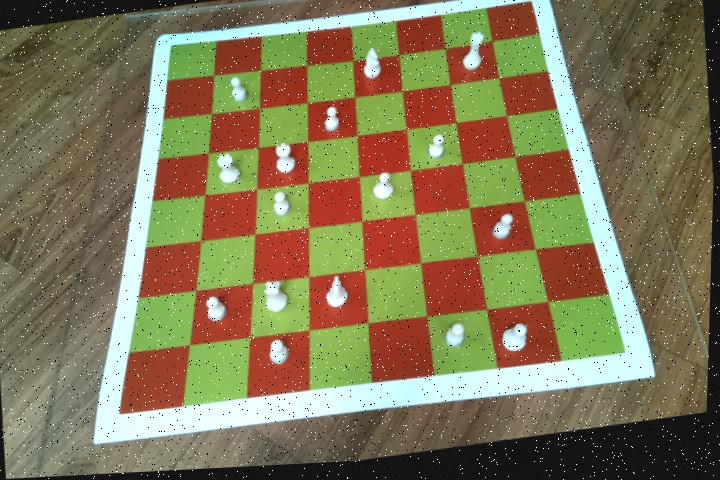chessboard-detect: (120, 6, 631, 417)
